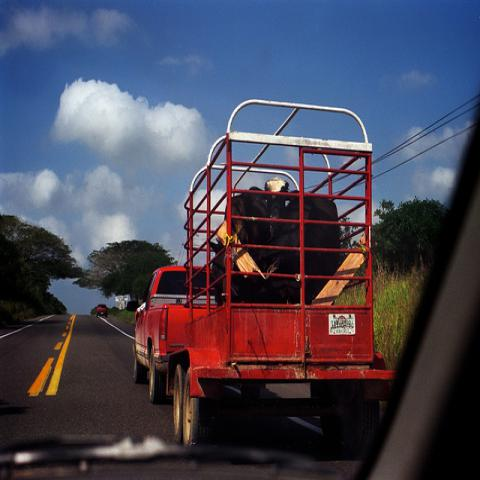car: (132, 264, 217, 404), (95, 303, 109, 318)
truck: (135, 103, 395, 396), (96, 304, 107, 317)
